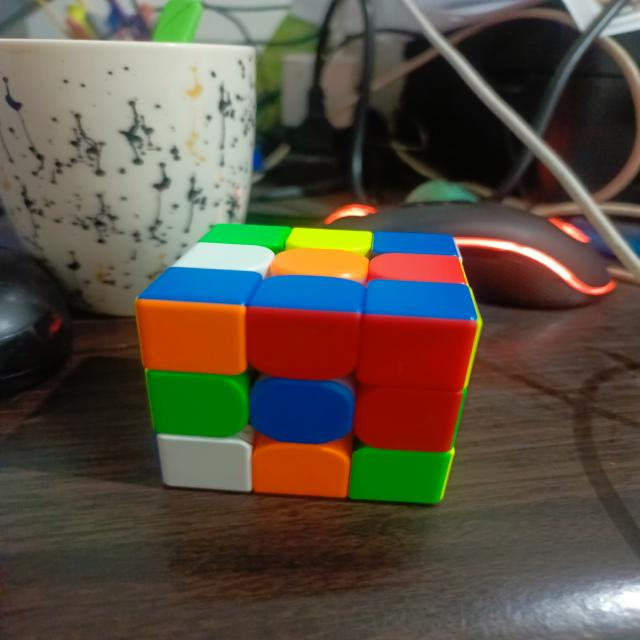rubik: (133, 221, 484, 505)
